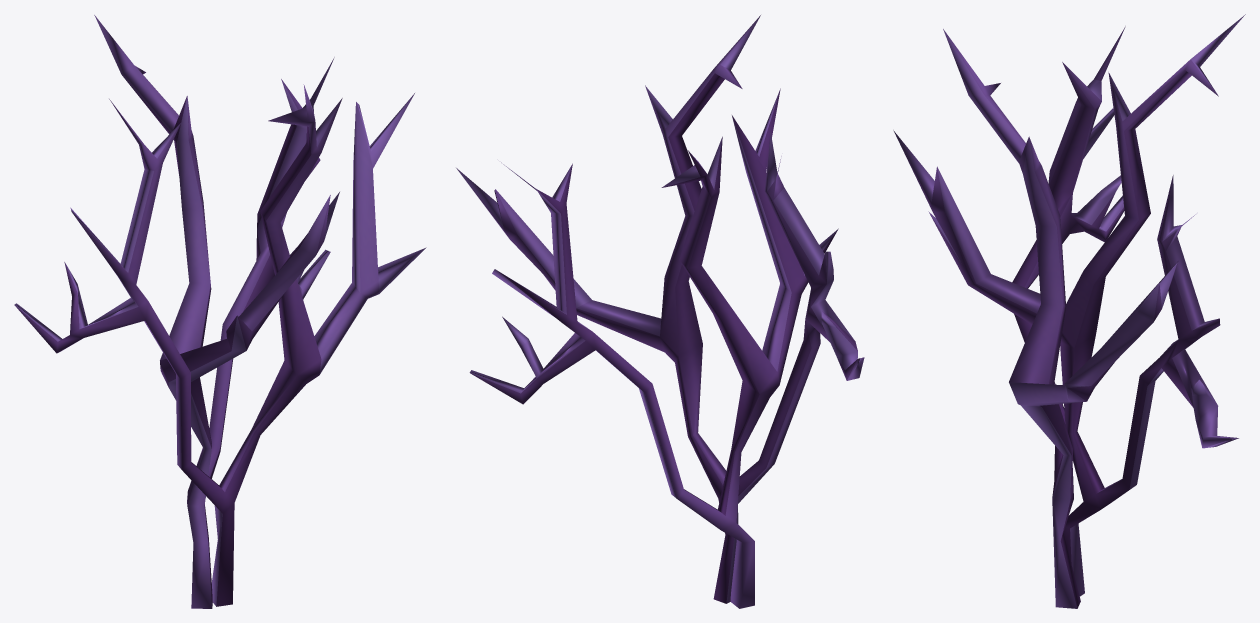
The model's file is seaGrassBigViolet.fbx.
3 renders of one model, left to right at view 1: azimuth 30°, elevation 25°; view 2: azimuth 150°, elevation 25°; view 3: azimuth 270°, elevation 25°, orthographic. The views are drawn at different scales.
Visible parts, largest first — view 1: seaGrassBigVioletObject; view 2: seaGrassBigVioletObject; view 3: seaGrassBigVioletObject.
Boxes of the visible parts, <box> form: seaGrassBigVioletObject: <box>14,15,426,608</box>; seaGrassBigVioletObject: <box>456,15,864,608</box>; seaGrassBigVioletObject: <box>893,14,1245,608</box>.
Size of the model in its own units: 0.8823 by 1.14 by 0.6177.
1 material, 1 textured.
